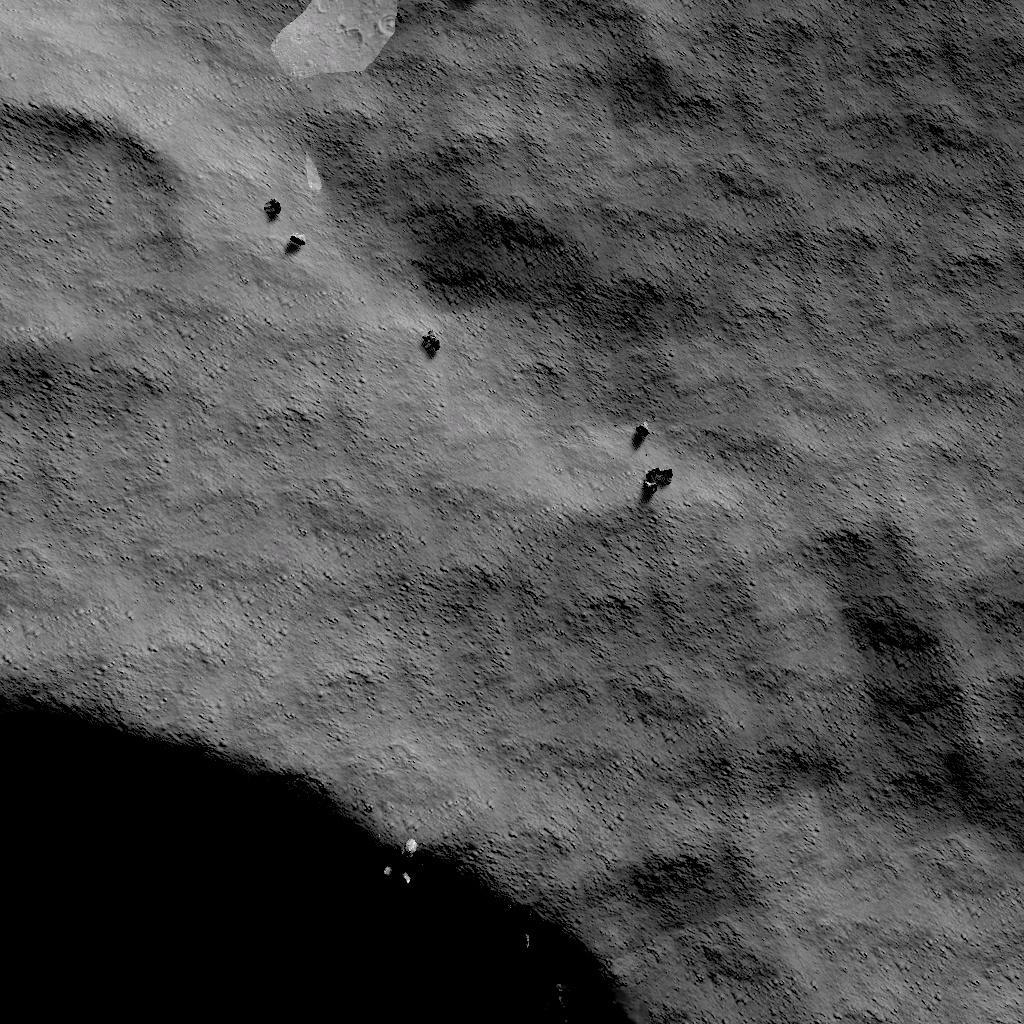Boulders: (261, 0, 431, 91)
Crater: (0, 660, 639, 1024), (0, 84, 200, 398)
Plan surface: (695, 400, 1024, 1024), (507, 4, 1024, 382), (0, 410, 608, 644)
